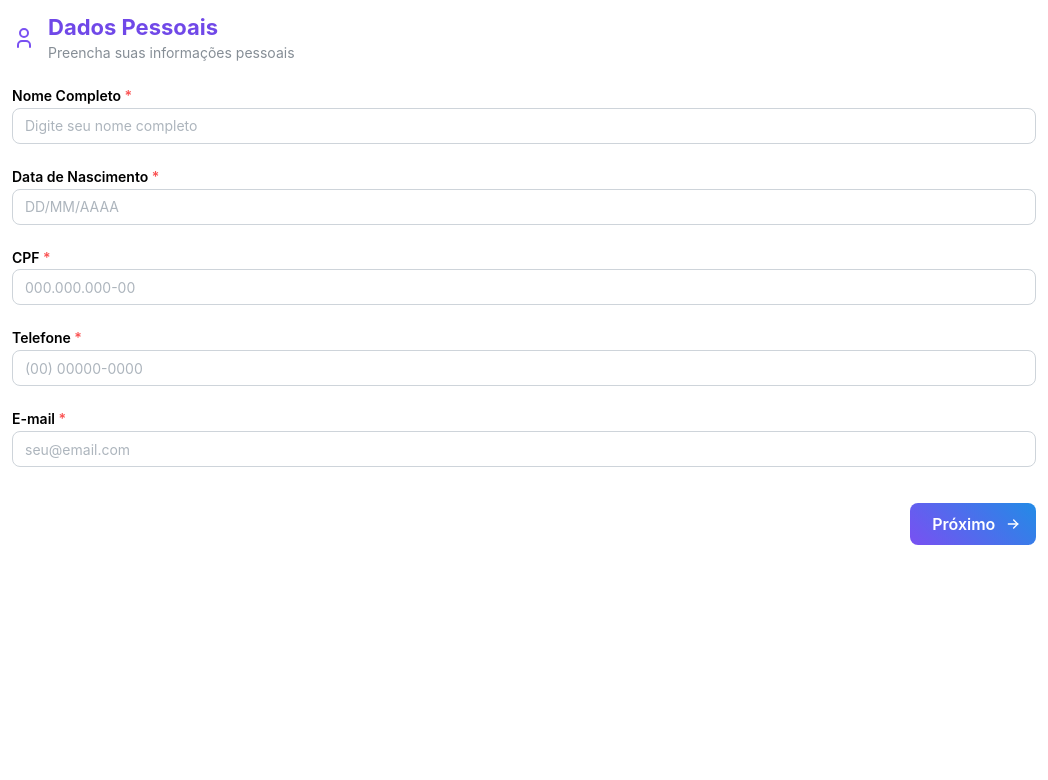
Test: Step1PersonalData › mostra erro de email inválido
Type "João Silva" into the field labelled "Nome Completo *". click: (524, 126)
box: [12, 108, 1036, 144]
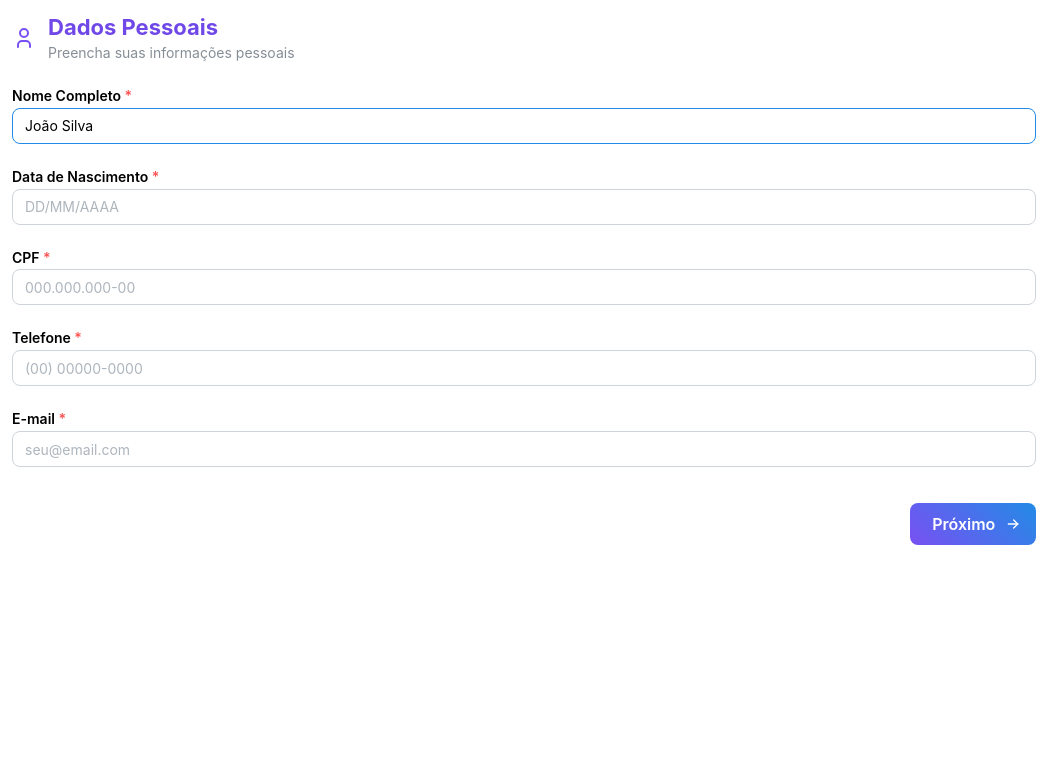
Type "email-invalido" into the field labelled "E-mail *". click: (524, 449)
box: [12, 431, 1036, 467]
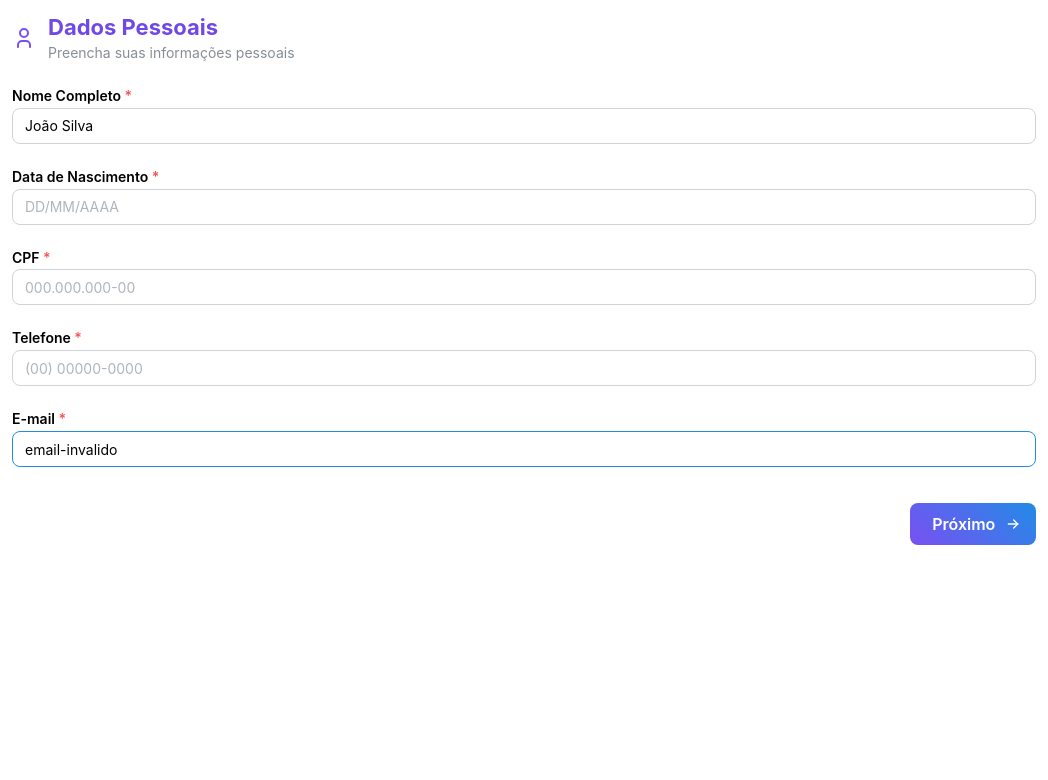
Click the button "Próximo". click: (973, 524)
box: [910, 503, 1036, 545]
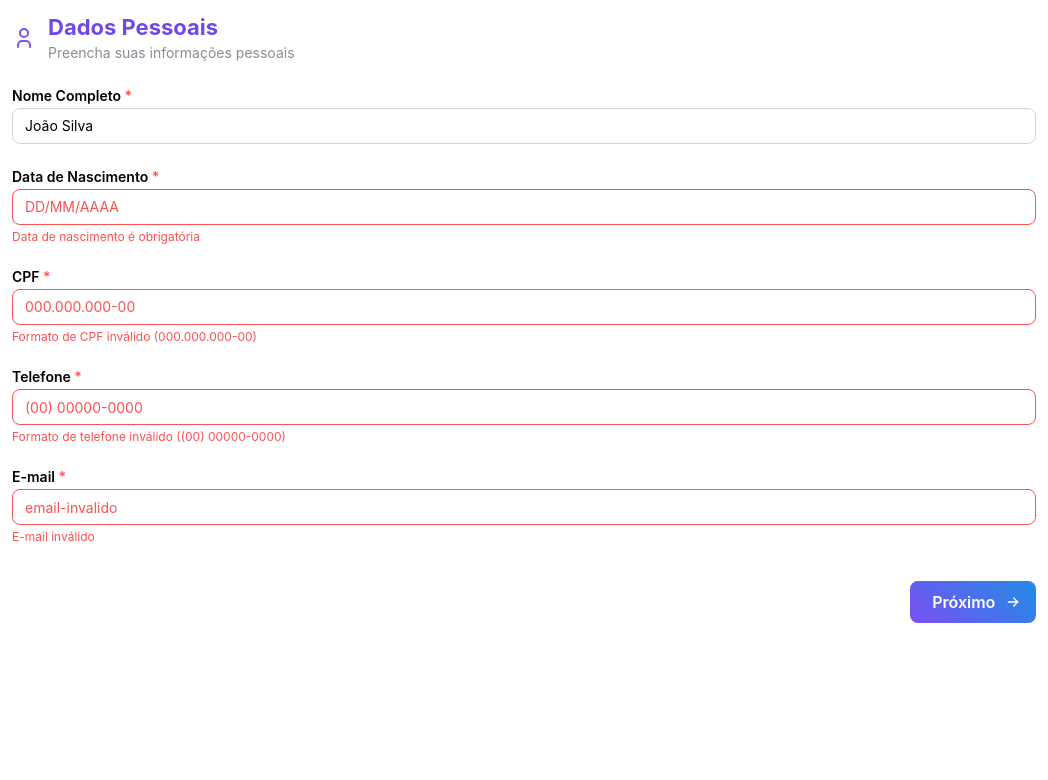
Now the text "E-mail inválido" is shown, box [12, 529, 95, 544]
